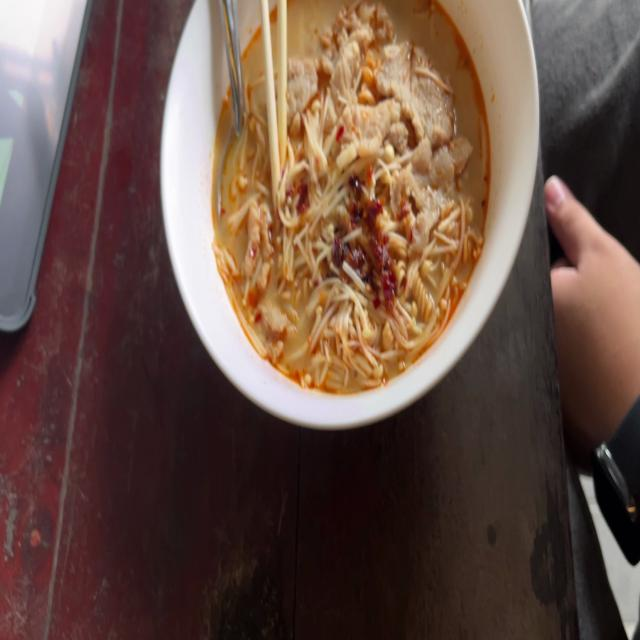noodle: (208, 0, 502, 398)
